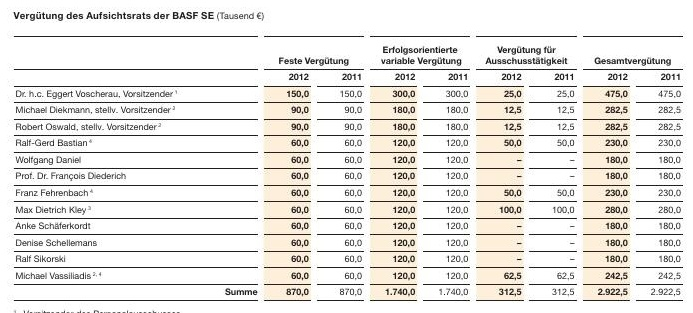table: (0, 0, 693, 313)
